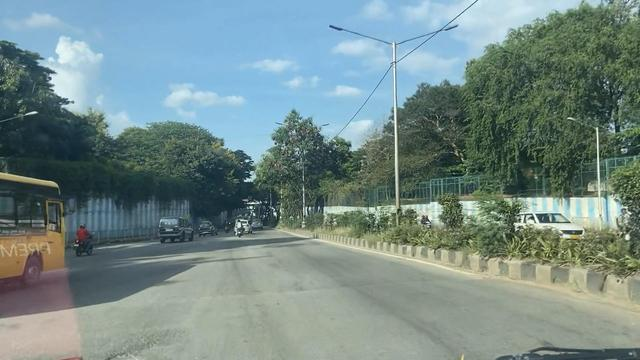RoadDamages: (99, 329, 178, 360)
